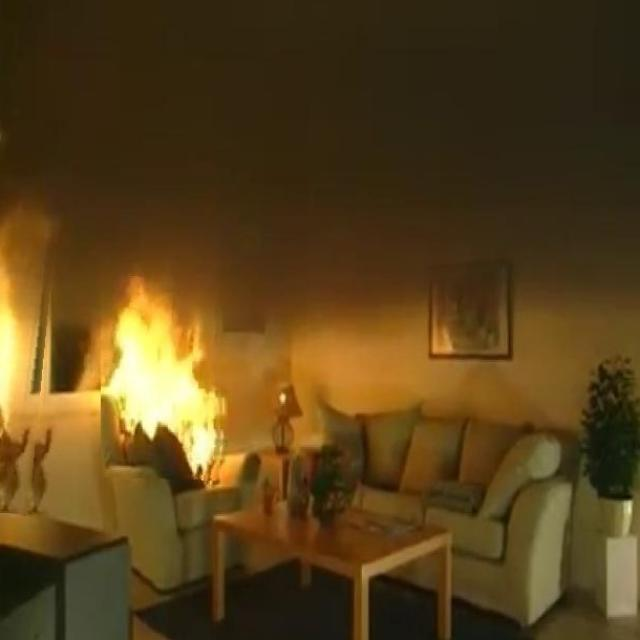smoke: (101, 262, 228, 480), (0, 200, 23, 460)
